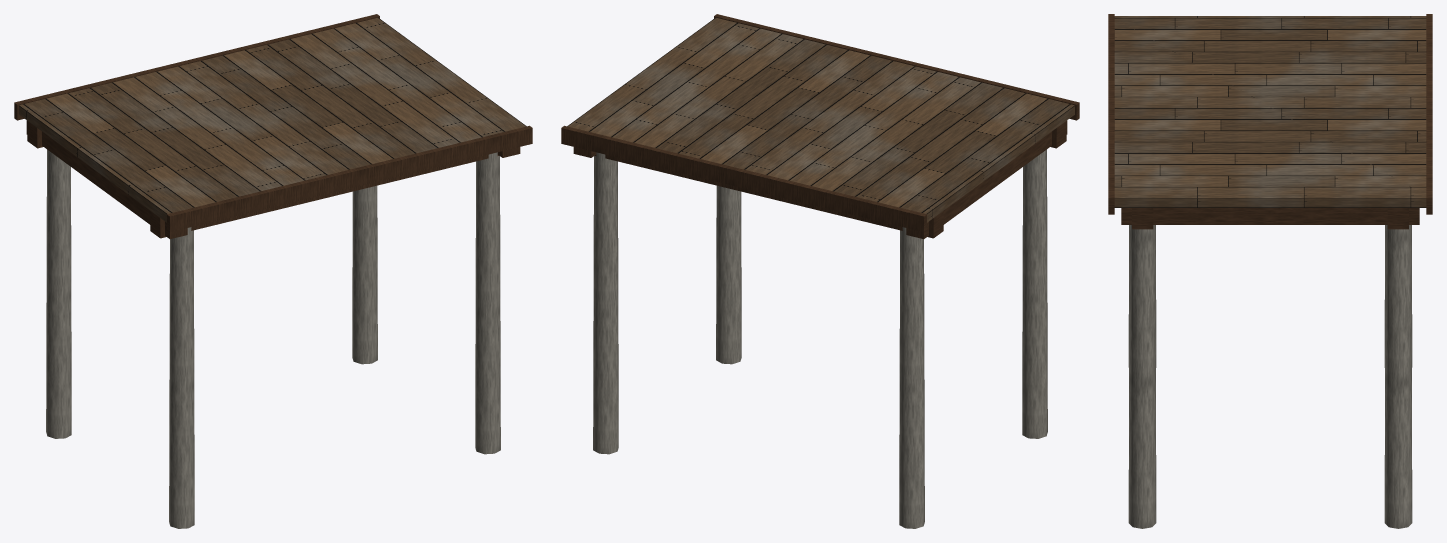
Rendered from SM_Art_Pier_405x300x100_P350.gltf.
The picture shows the model from 3 angles, left to right: view 1: azimuth 30°, elevation 25°; view 2: azimuth 150°, elevation 25°; view 3: azimuth 270°, elevation 25°; orthographic projection. The views are drawn at different scales.
Visible parts, largest first — view 1: SM_Art_Pier_405x300x100_P350; view 2: SM_Art_Pier_405x300x100_P350; view 3: SM_Art_Pier_405x300x100_P350.
Boxes of the visible parts, x1,y1,x2,y2 form: SM_Art_Pier_405x300x100_P350: [14, 14, 532, 528]; SM_Art_Pier_405x300x100_P350: [561, 14, 1079, 528]; SM_Art_Pier_405x300x100_P350: [1108, 14, 1432, 528].
Bounding box in the file's own units: 4.09 × 3.51 × 3.04.
3 materials, 3 textured.
